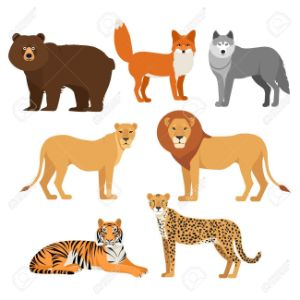bear: (7, 29, 114, 114)
fox: (114, 13, 198, 105)
wolf: (207, 28, 293, 108)
